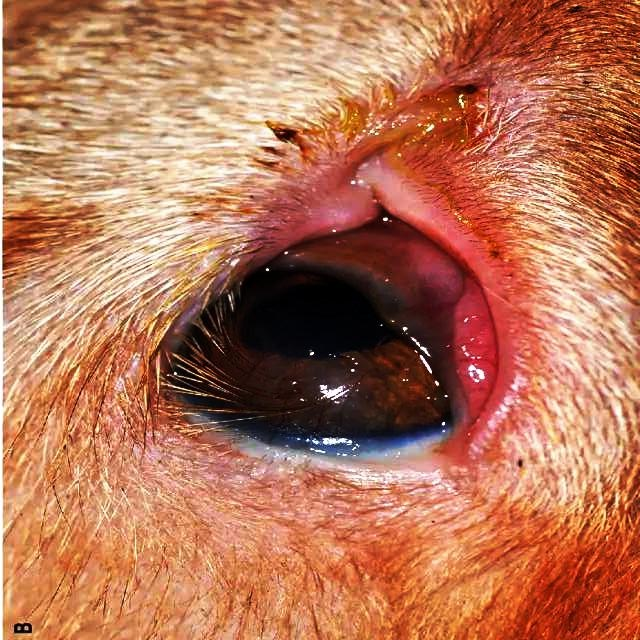eye_infection: (148, 183, 528, 477)
